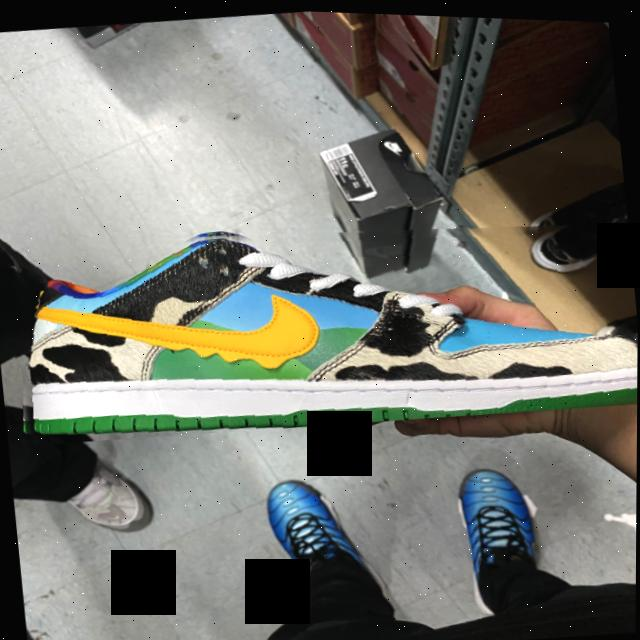shoe: (0, 176, 639, 464)
